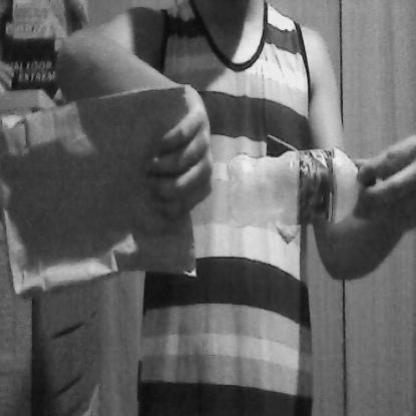Plastic Bottle: (222, 133, 381, 236)
